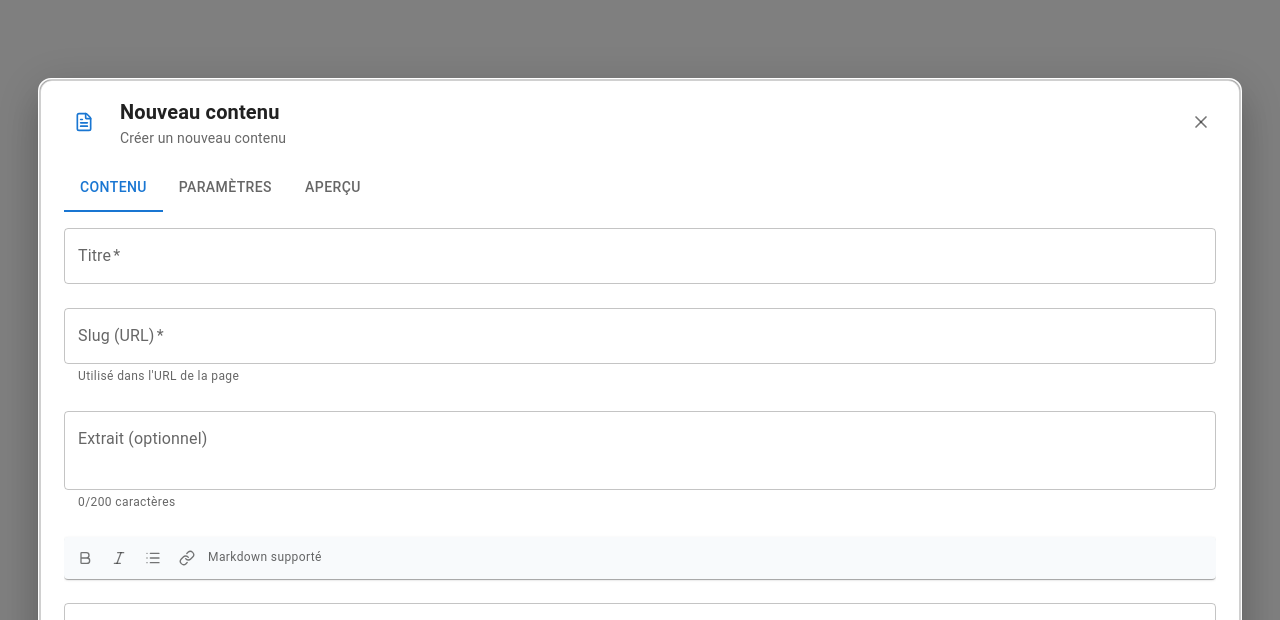
Test: ContentModal › génère automatiquement le slug à partir du titre en mode création
The image size is (1280, 620).
Type "Mon Super Article" into the field labelled "Titre *" at point(640, 256), box left=64, top=228, right=1216, bottom=284
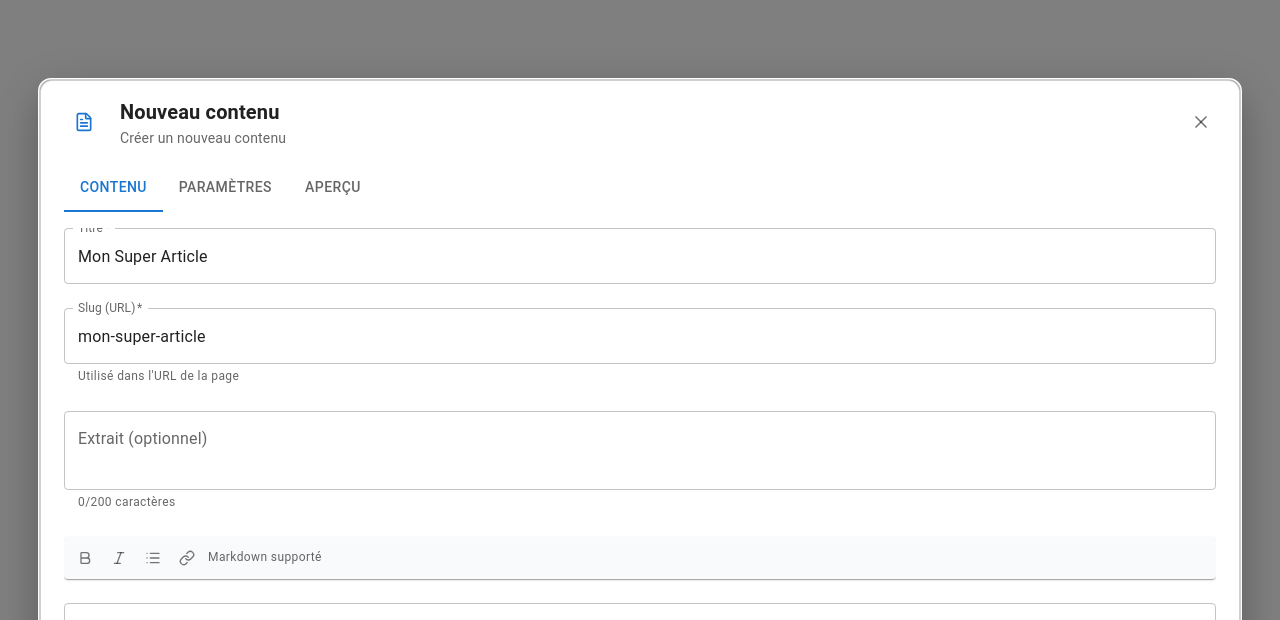
Expected: the field labelled "Slug (URL) *" holds "mon-super-article", left=64, top=308, right=1216, bottom=364
